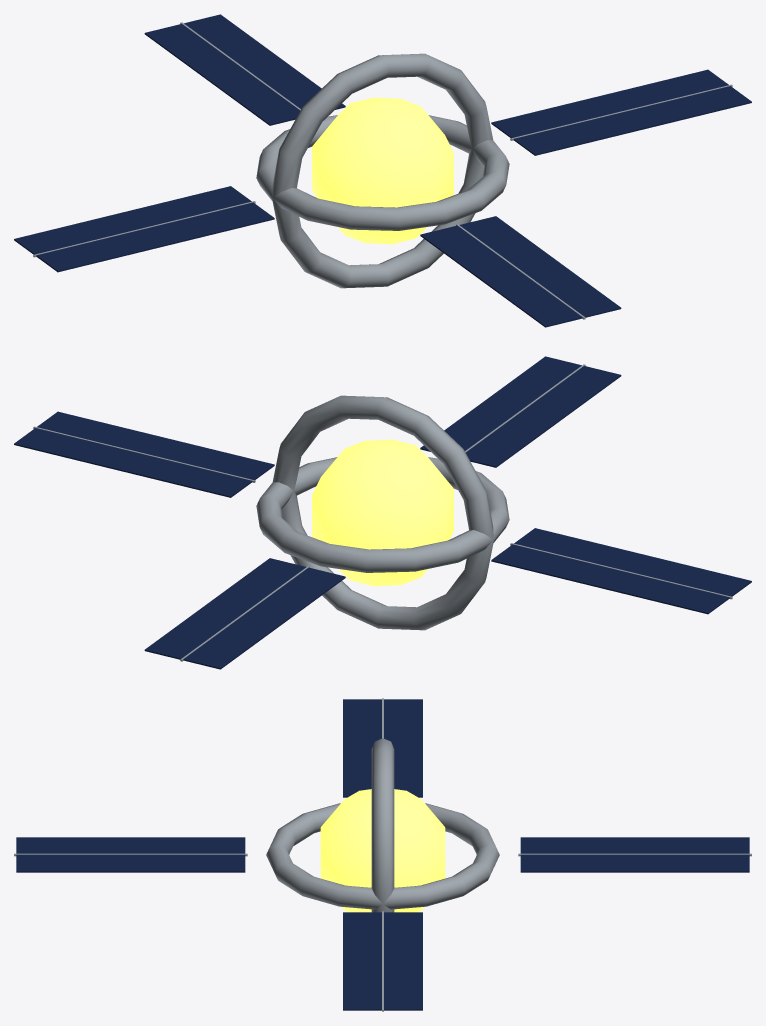
Rendered from space_orbital_energy_t1.glb.
3 views of the same model, one above another, from view 1: azimuth 30°, elevation 25°; view 2: azimuth 150°, elevation 25°; view 3: azimuth 270°, elevation 25° (orthographic). The views are drawn at different scales.
Parts seen in each view (by area): view 1: body, solar_0, solar_2, solar_1, solar_3; view 2: body, solar_0, solar_2, solar_3, solar_1; view 3: body, solar_1, solar_3, solar_0, solar_2.
Boxes of the visible parts, x1=… form: body: x1=256, y1=53, x2=509, y2=288; solar_0: x1=491, y1=69, x2=751, y2=155; solar_2: x1=14, y1=186, x2=274, y2=272; solar_1: x1=420, y1=216, x2=621, y2=327; solar_3: x1=144, y1=14, x2=345, y2=125; body: x1=256, y1=395, x2=509, y2=630; solar_0: x1=14, y1=411, x2=274, y2=497; solar_2: x1=491, y1=528, x2=751, y2=614; solar_3: x1=144, y1=558, x2=345, y2=669; solar_1: x1=420, y1=356, x2=621, y2=467; body: x1=266, y1=738, x2=499, y2=912; solar_1: x1=14, y1=837, x2=247, y2=872; solar_3: x1=518, y1=837, x2=751, y2=872; solar_0: x1=343, y1=911, x2=422, y2=1011; solar_2: x1=343, y1=698, x2=422, y2=797.
Size of what is drawn, in the model's own units: 32.2 by 10.2 by 32.2.
